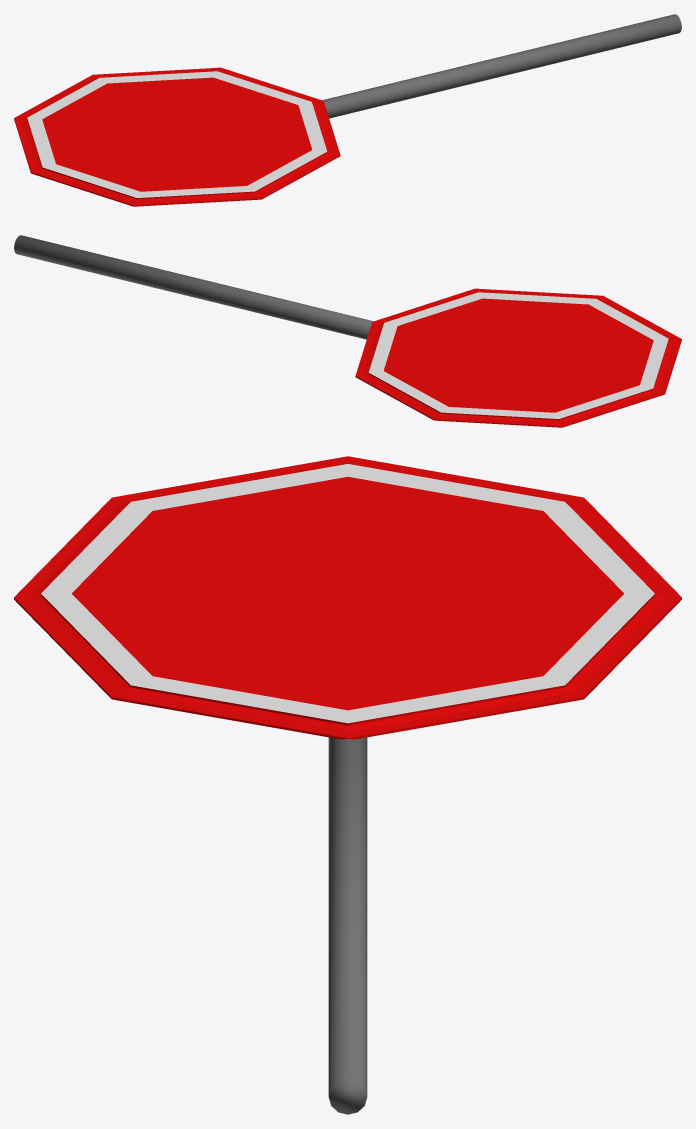
File: stop_sign.fbx
3 views of the same model, one above another, from view 1: azimuth 30°, elevation 25°; view 2: azimuth 150°, elevation 25°; view 3: azimuth 270°, elevation 25° (orthographic). The views are drawn at different scales.
Parts seen in each view (by area): view 1: Cylinder; view 2: Cylinder; view 3: Cylinder.
Part boxes in pixels (x1=…): Cylinder: x1=14, y1=14, x2=681, y2=206; Cylinder: x1=14, y1=235, x2=681, y2=427; Cylinder: x1=14, y1=456, x2=681, y2=1114.
Size of the model in its own units: 441 by 12.95 by 200.
